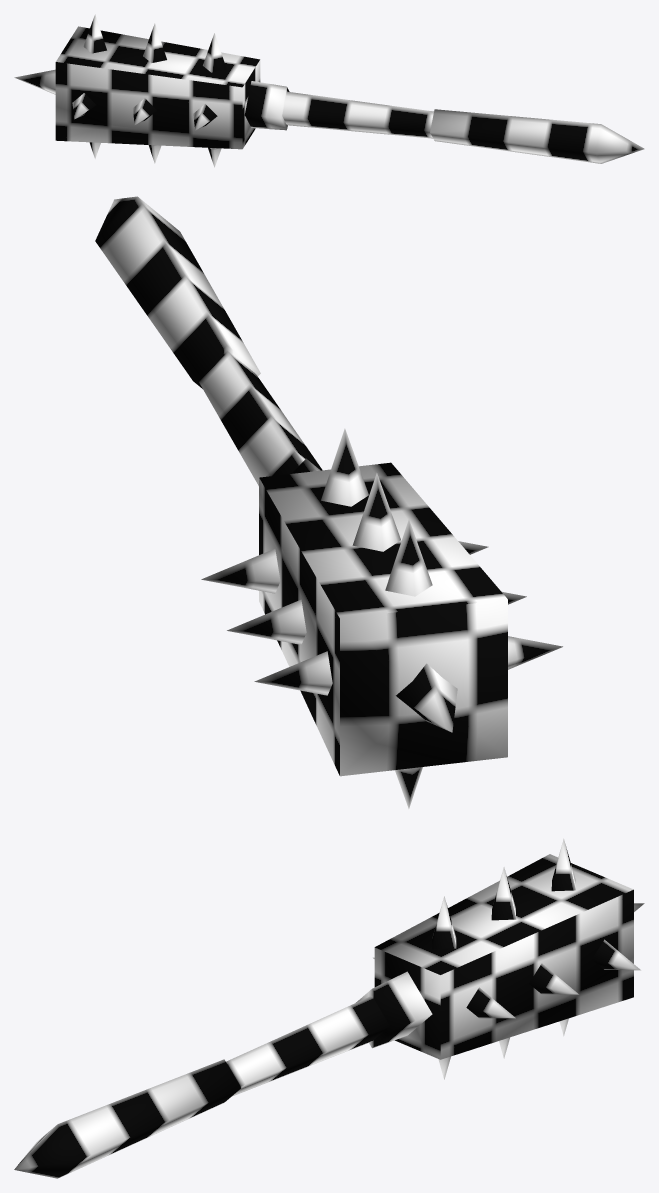
Rendered from initwehm7.dae.
The picture shows the model from 3 angles, top to bottom: view 1: azimuth 30°, elevation 25°; view 2: azimuth 150°, elevation 25°; view 3: azimuth 270°, elevation 25°; orthographic projection. The views are drawn at different scales.
Visible parts, largest first — view 1: weapon; view 2: weapon; view 3: weapon.
Boxes of the visible parts, box(x1,y1,x2,y2) form: weapon: box(14, 14, 644, 167); weapon: box(95, 196, 562, 808); weapon: box(14, 838, 644, 1178).
Size of the model in its own units: 2.23 by 2.23 by 0.775.
1 material, 1 textured.
